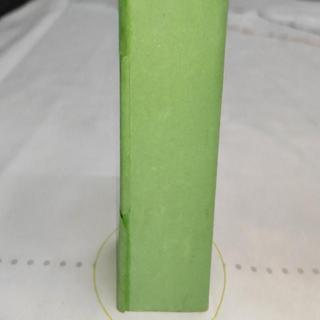greenbox: (113, 0, 233, 312)
